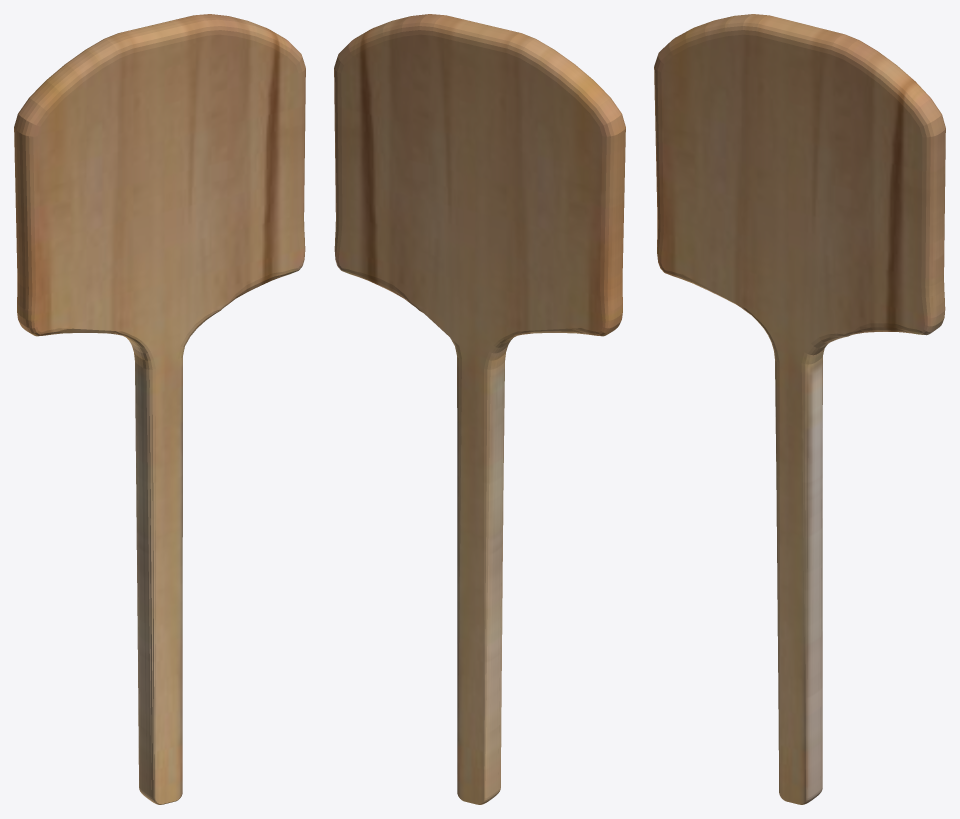
Rendered from Pizza_Paddle.FBX.
The picture shows the model from 3 angles, left to right: view 1: azimuth 30°, elevation 25°; view 2: azimuth 150°, elevation 25°; view 3: azimuth 330°, elevation 25°; orthographic projection.
Parts seen in each view (by area): view 1: Pizza_Paddle; view 2: Pizza_Paddle; view 3: Pizza_Paddle.
Boxes of the visible parts, box(x1,y1,x2,y2) form: Pizza_Paddle: box(14, 14, 305, 804); Pizza_Paddle: box(334, 14, 625, 804); Pizza_Paddle: box(654, 14, 945, 804).
Bounding box in the file's own units: 152 × 394 × 15.
1 material, 1 textured.
